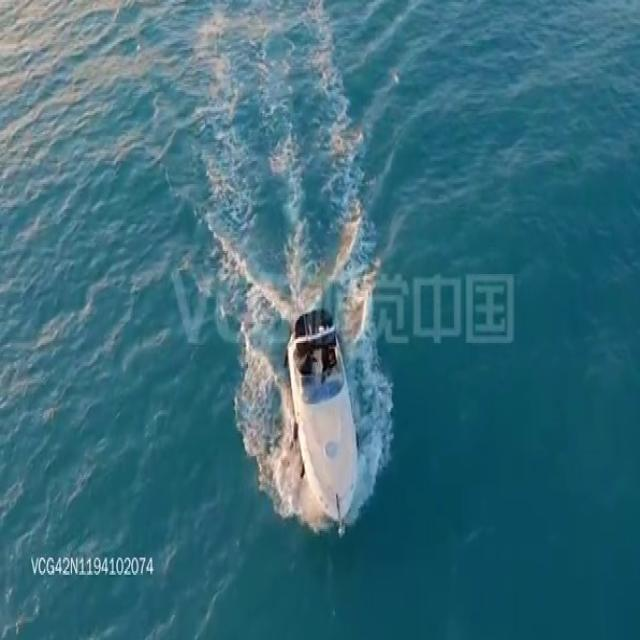houseboat: (285, 304, 360, 525)
